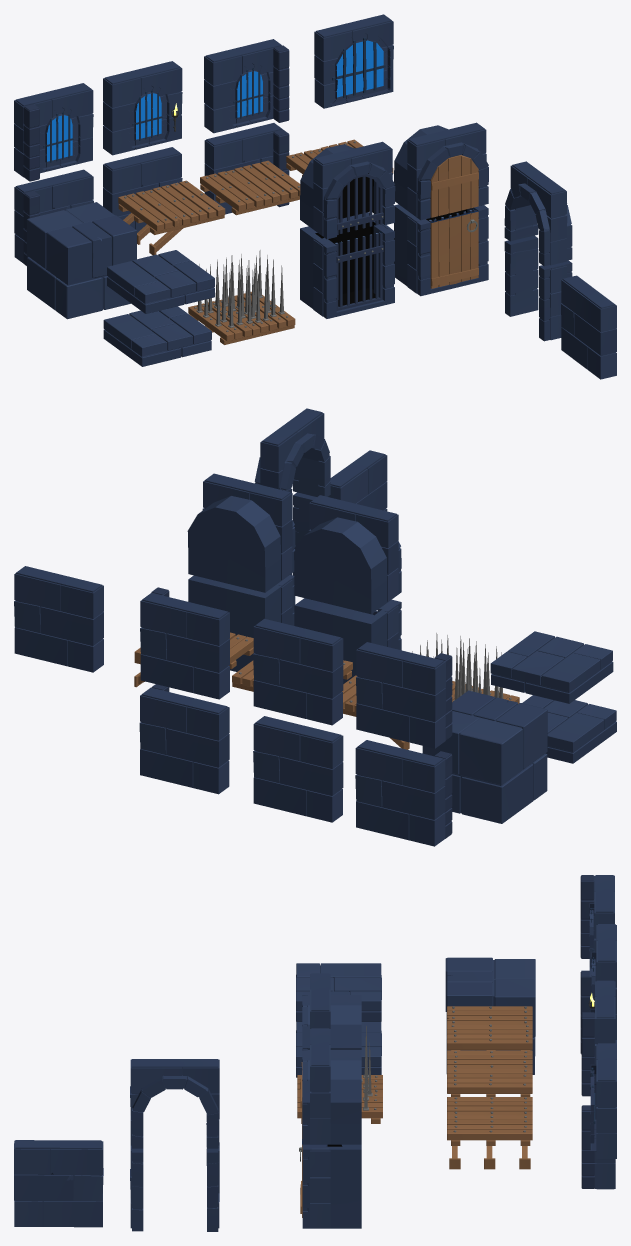
Rendered from blocks.glb.
The picture shows the model from 3 angles, top to bottom: view 1: azimuth 30°, elevation 25°; view 2: azimuth 150°, elevation 25°; view 3: azimuth 270°, elevation 25°; orthographic projection. The views are drawn at different scales.
Visible parts, largest first — view 1: brick floor, door bottom half, door upper half.001, door upper half, door bottom half.001, window wall3, window wall2, window wal 4, window wall, Cube.009, wall.002, brick floor2 (+9 smaller); view 2: brick floor, door upper half, door upper half.001, wall2, window wall2, window wall3, wall3, wall, window wall, window wal 4, brick floor2, wall.002 (+9 smaller); view 3: wall.003, door upper half.001, door bottom half.001, brick floor, wall.002, wood floor3, wood floor2, wood floor, door upper half, brick floor2, window wal 4, window wall3 (+7 smaller).
Boxes of the visible parts, x1,y1,x2,y2 form: brick floor: [27, 202, 136, 319]; door bottom half: [300, 212, 394, 318]; door upper half.001: [394, 122, 488, 220]; door upper half: [300, 141, 395, 239]; door bottom half.001: [394, 204, 488, 296]; window wall3: [204, 39, 289, 133]; window wall2: [14, 83, 93, 181]; window wal 4: [314, 14, 393, 108]; window wall: [103, 61, 182, 155]; Cube.009: [188, 250, 295, 344]; wall.002: [504, 161, 572, 266]; brick floor2: [107, 250, 214, 313]; brick floor: [422, 690, 547, 823]; door upper half: [294, 495, 401, 614]; door upper half.001: [187, 473, 295, 592]; wall2: [355, 740, 452, 846]; window wall2: [356, 642, 452, 748]; window wall3: [140, 587, 229, 699]; wall3: [139, 684, 229, 794]; wall: [253, 716, 343, 822]; window wall: [253, 618, 343, 725]; window wal 4: [14, 566, 103, 672]; brick floor2: [490, 631, 613, 703]; wall.002: [254, 408, 330, 496]; wall.003: [14, 1140, 103, 1227]; door upper half.001: [300, 1028, 361, 1144]; door bottom half.001: [299, 1139, 361, 1228]; brick floor: [445, 957, 535, 1074]; wall.002: [130, 1059, 219, 1148]; wood floor3: [447, 1097, 532, 1169]; wood floor2: [447, 1050, 532, 1096]; wood floor: [447, 1006, 532, 1050]; door upper half: [302, 973, 361, 1049]; brick floor2: [296, 963, 381, 1021]; window wal 4: [590, 1043, 616, 1159]; window wall3: [581, 980, 615, 1096].
Size of the model in its own units: 11.75 by 4.52 by 14.08.
10 materials, 3 textured.
